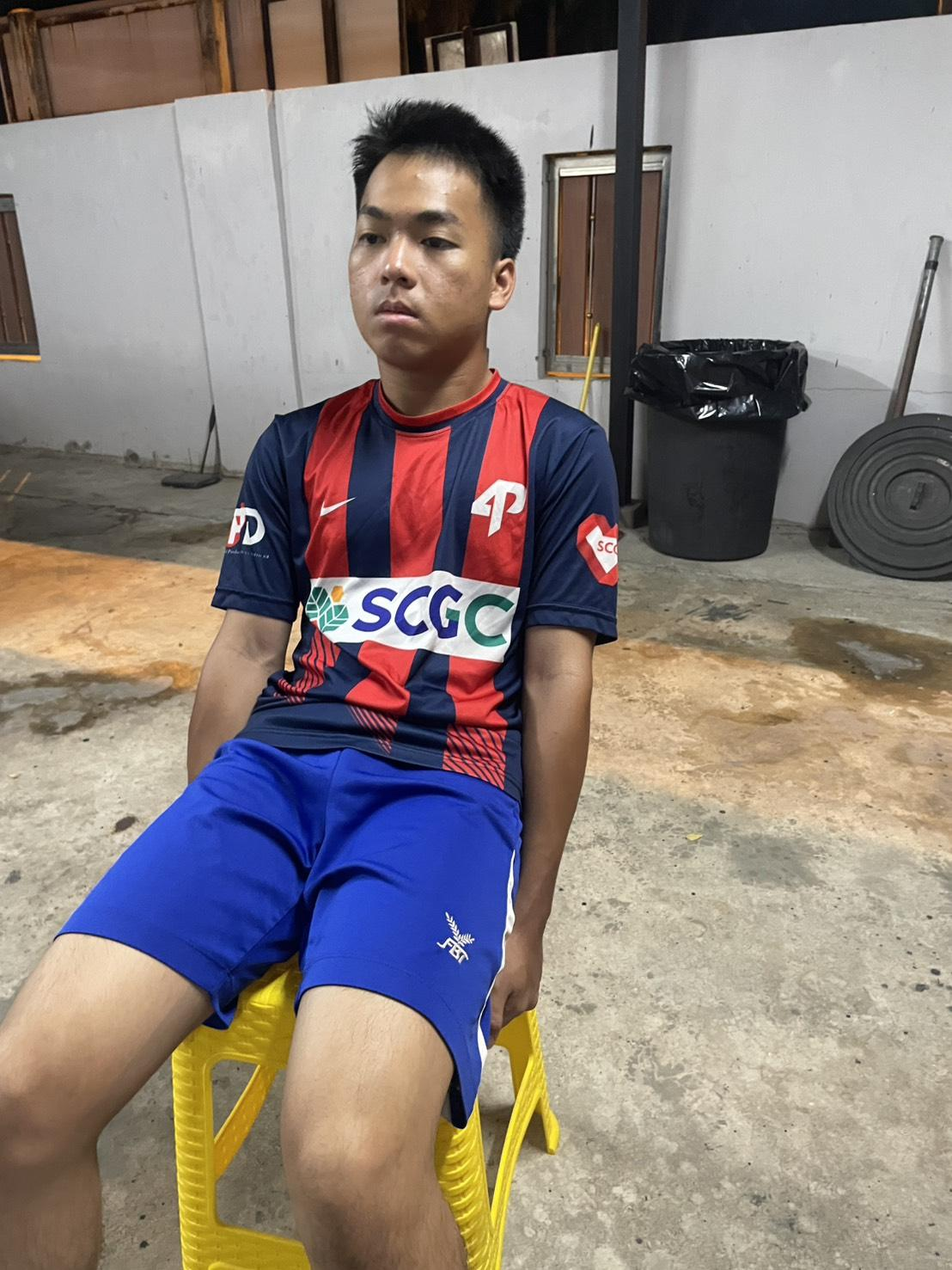BadPosture: (0, 101, 617, 1269)
